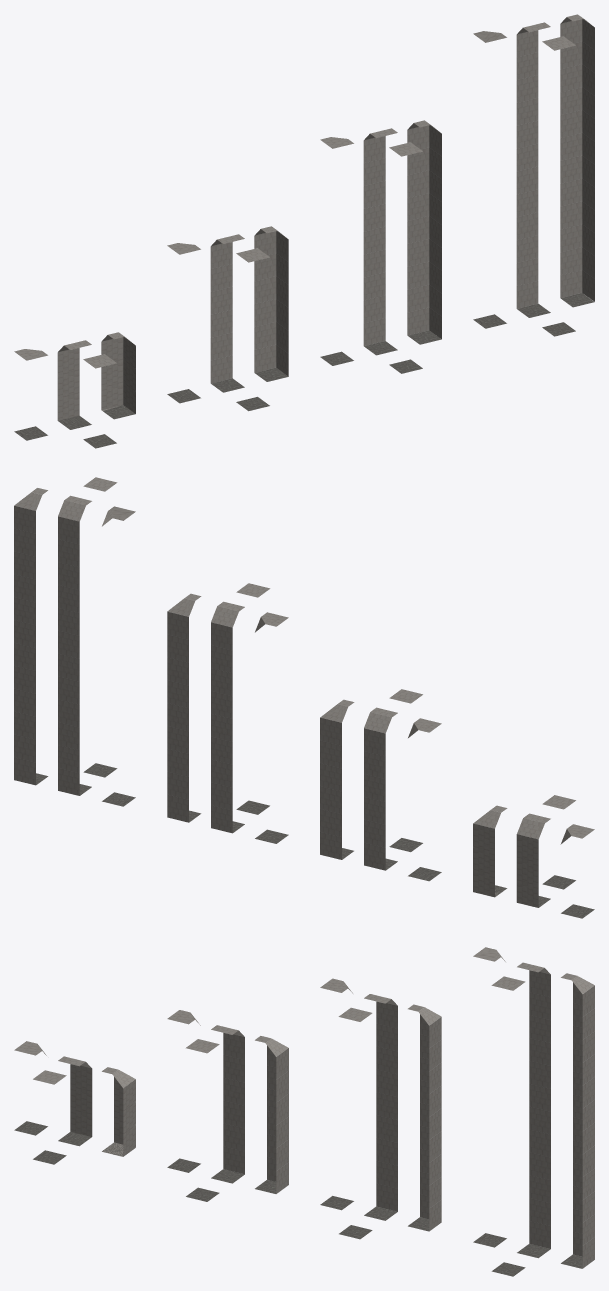
File: tileset.fbx
The picture shows the model from 3 angles, top to bottom: view 1: azimuth 30°, elevation 25°; view 2: azimuth 150°, elevation 25°; view 3: azimuth 330°, elevation 25°; orthographic projection.
Parts seen in each view (by area): view 1: WallCornerIn4, WallCornerIn3, Wall4, Wall3, WallCornerIn2, Wall2, WallCornerIn, Wall, Floor, Floor2, Floor4, Floor3; view 2: Wall4, WallCornerIn4, Wall3, WallCornerIn3, Wall2, WallCornerIn2, Wall, WallCornerIn, WallCornerOut3, WallCornerOut, WallCornerOut2, WallCornerOut4 (+4 smaller); view 3: Wall4, WallCornerIn4, Wall3, WallCornerIn3, Wall2, WallCornerIn2, Wall, WallCornerIn, Floor, Floor4, Floor2, Floor3 (+4 smaller).
Part boxes in pixels (x1,y1,x2,y2): WallCornerIn4: [560, 14, 594, 307]; WallCornerIn3: [407, 120, 441, 344]; Wall4: [516, 22, 550, 317]; Wall3: [363, 128, 397, 355]; WallCornerIn2: [254, 226, 288, 381]; Wall2: [210, 234, 244, 392]; WallCornerIn: [101, 332, 135, 419]; Wall: [57, 340, 91, 429]; Floor: [83, 354, 116, 448]; Floor2: [236, 248, 269, 411]; Floor4: [542, 36, 575, 336]; Floor3: [389, 142, 422, 373]; Wall4: [58, 495, 91, 795]; WallCornerIn4: [14, 488, 48, 785]; Wall3: [211, 601, 244, 833]; WallCornerIn3: [167, 593, 201, 822]; Wall2: [364, 707, 397, 870]; WallCornerIn2: [320, 699, 354, 859]; Wall: [516, 813, 550, 907]; WallCornerIn: [473, 805, 507, 897]; WallCornerOut3: [255, 612, 288, 843]; WallCornerOut: [560, 824, 594, 918]; WallCornerOut2: [408, 718, 441, 881]; WallCornerOut4: [102, 506, 135, 806]; Wall4: [517, 962, 550, 1258]; WallCornerIn4: [561, 973, 594, 1268]; Wall3: [364, 994, 397, 1220]; WallCornerIn3: [408, 1004, 441, 1231]; Wall2: [211, 1025, 244, 1183]; WallCornerIn2: [255, 1036, 288, 1193]; Wall: [58, 1056, 92, 1146]; WallCornerIn: [102, 1067, 135, 1156]; Floor: [33, 1070, 66, 1164]; Floor4: [491, 976, 525, 1276]; Floor2: [185, 1039, 219, 1201]; Floor3: [338, 1007, 372, 1239].
Bounding box in the file's own units: 2601 × 1250 × 301.
